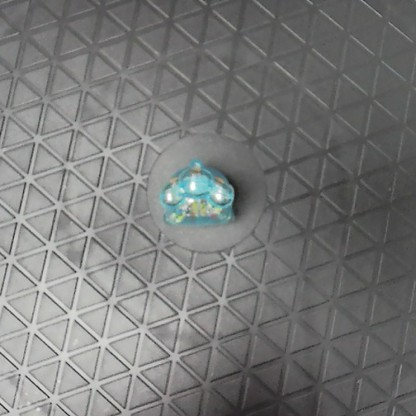bluefish: (155, 159, 238, 233)
